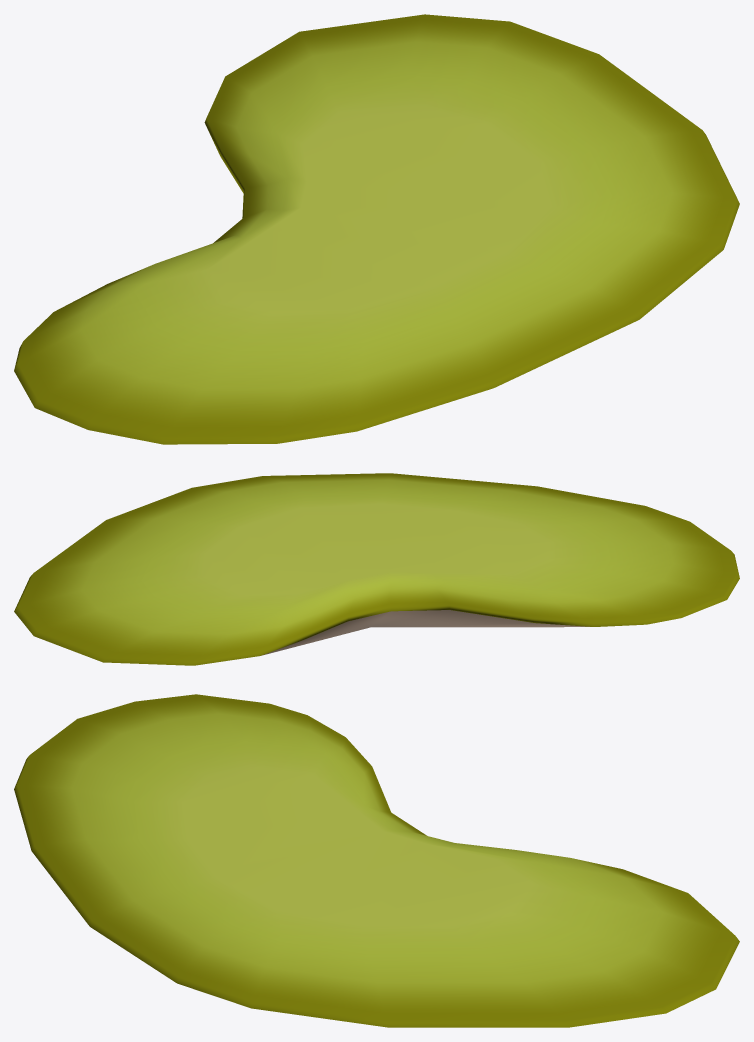
Rendered from grassTopEdge_E.fbx.
3 views of the same model, one above another, from view 1: azimuth 30°, elevation 25°; view 2: azimuth 150°, elevation 25°; view 3: azimuth 270°, elevation 25° (orthographic). The views are drawn at different scales.
Visible parts, largest first — view 1: grassTopEdge_E; view 2: grassTopEdge_E; view 3: grassTopEdge_E.
Part boxes in pixels (left/top/right/bottom): grassTopEdge_E: left=14, top=14, right=739, bottom=444; grassTopEdge_E: left=14, top=473, right=739, bottom=665; grassTopEdge_E: left=14, top=694, right=739, bottom=1027.
Size of the model in its own units: 4298 by 513 by 3995.
